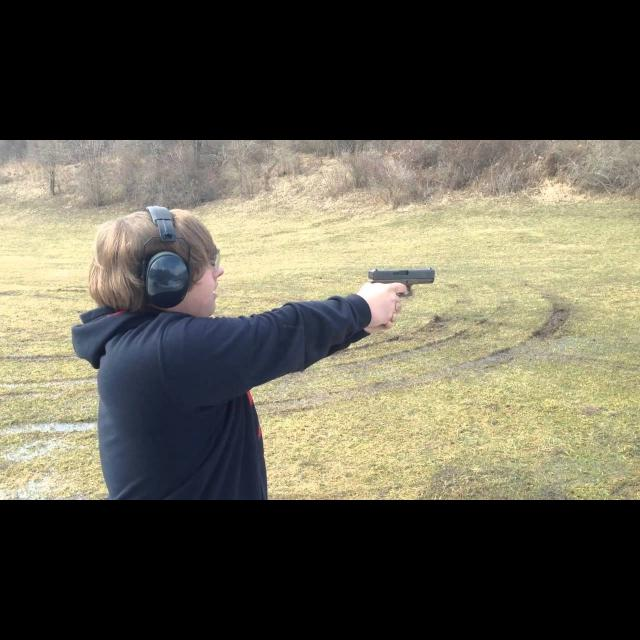handgun: (368, 264, 438, 300)
